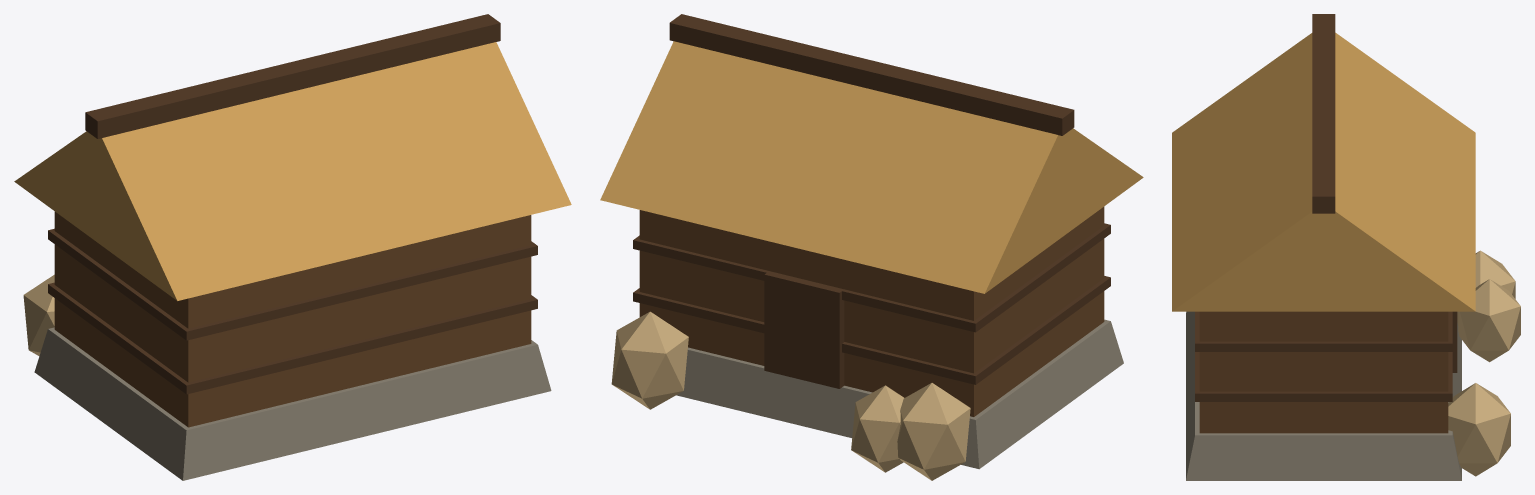
Rendered from warehouse.glb.
3 renders of one model, left to right at view 1: azimuth 30°, elevation 25°; view 2: azimuth 150°, elevation 25°; view 3: azimuth 270°, elevation 25°, orthographic. The views are drawn at different scales.
Parts seen in each view (by area): view 1: plinth; view 2: plinth; view 3: plinth.
Part boxes in pixels (x1,y1,x2,y2): plinth: [14, 14, 571, 480]; plinth: [600, 14, 1143, 480]; plinth: [1172, 14, 1520, 480].
Bounding box in the file's own units: 0.94 × 0.7315 × 0.7581.
